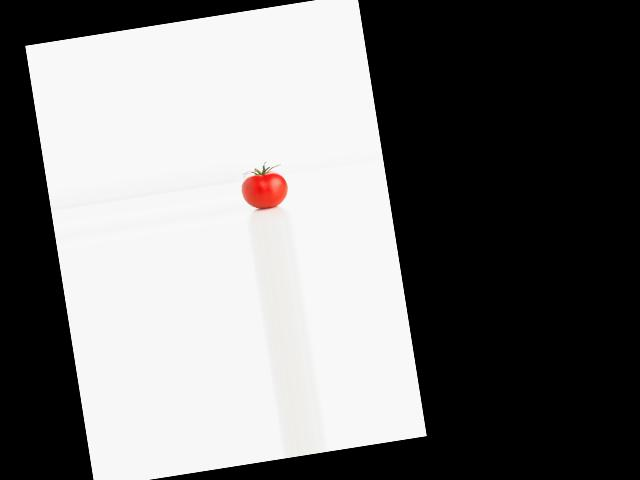tomato: (240, 170, 290, 211)
